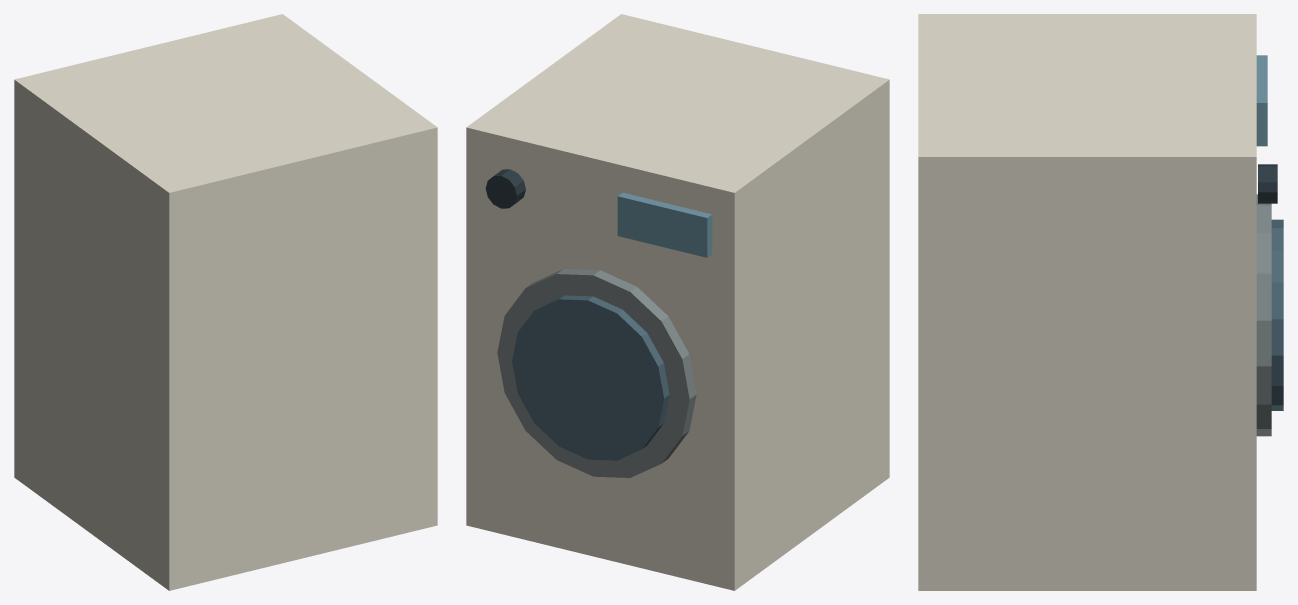
File: washing_machine.glb
3 views of the same model, side by side, from view 1: azimuth 30°, elevation 25°; view 2: azimuth 150°, elevation 25°; view 3: azimuth 270°, elevation 25° (orthographic). The views are drawn at different scales.
Parts seen in each view (by area): view 1: washing_machine; view 2: washing_machine; view 3: washing_machine.
Boxes of the visible parts, <box> form: washing_machine: <box>14,14,437,590</box>; washing_machine: <box>466,14,889,590</box>; washing_machine: <box>918,14,1283,590</box>.
Bounding box in the file's own units: 0.6 × 0.85 × 0.648.
